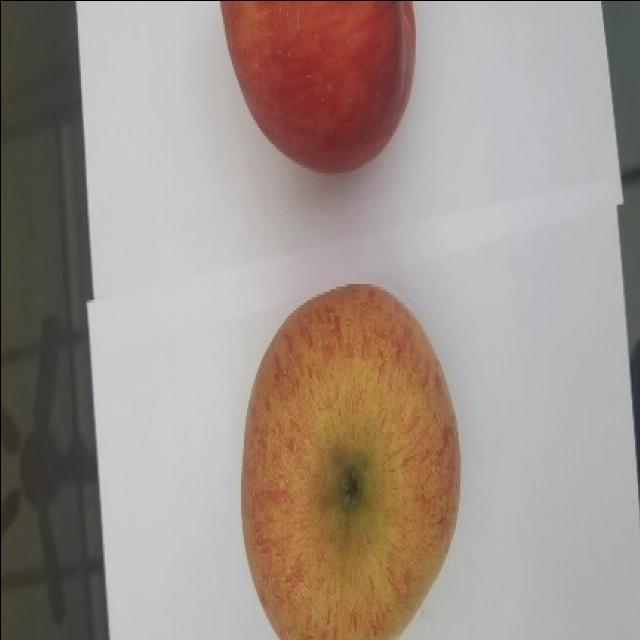Apple: (238, 282, 459, 640), (217, 0, 421, 179)
